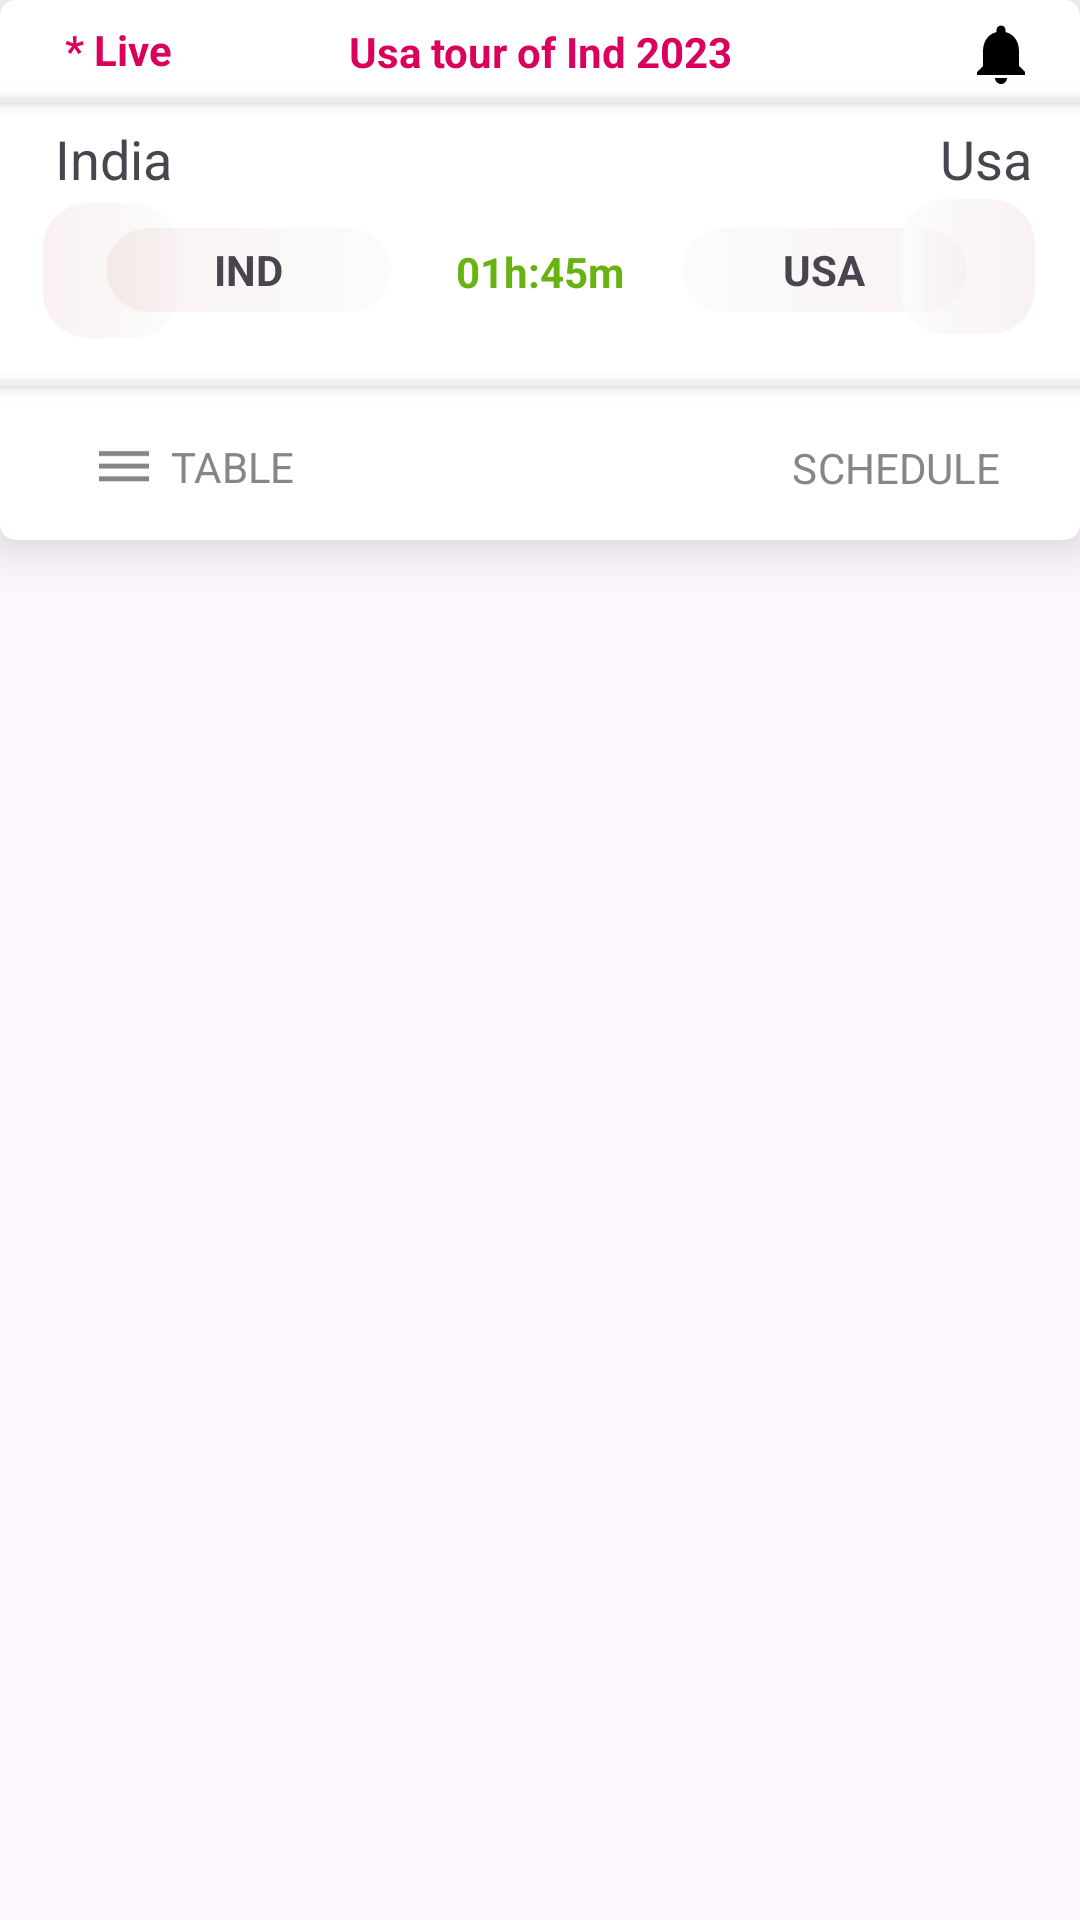

Icon click points for this 1080x1920 phone screenshot, format (x=x, y=y):
notification: (x=1001, y=54)
